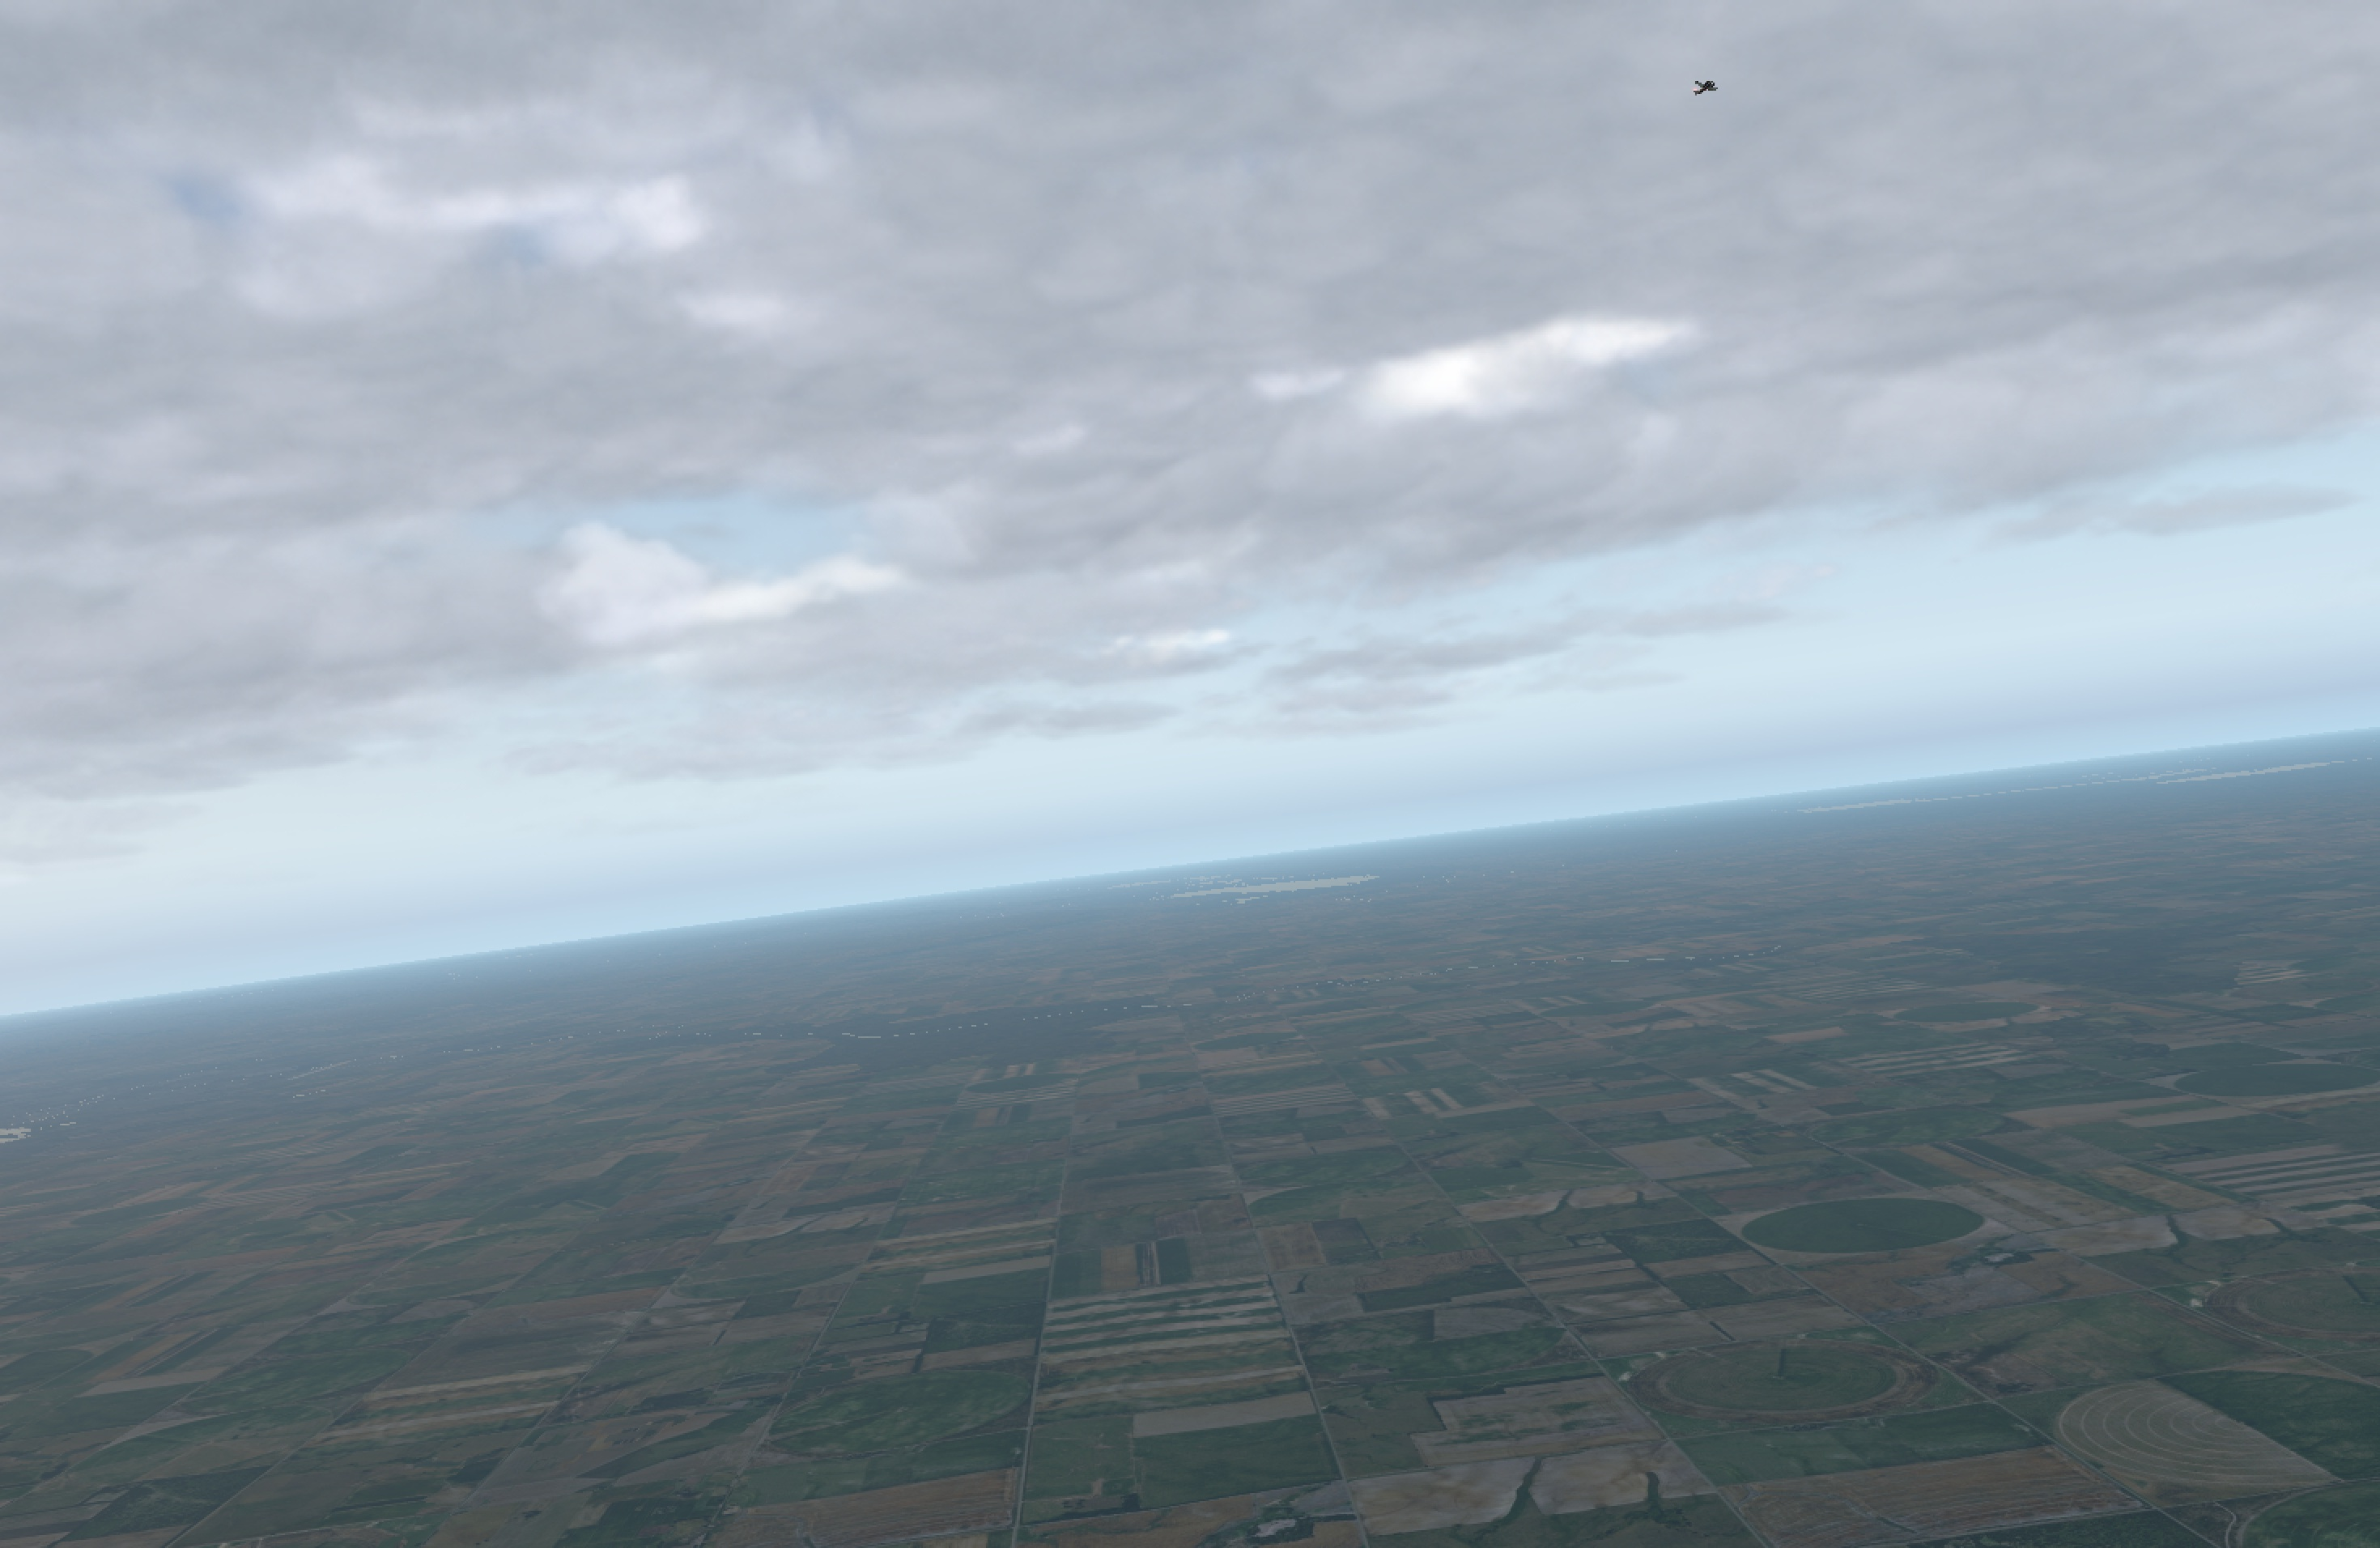aircraft: (1691, 80, 1724, 92)
